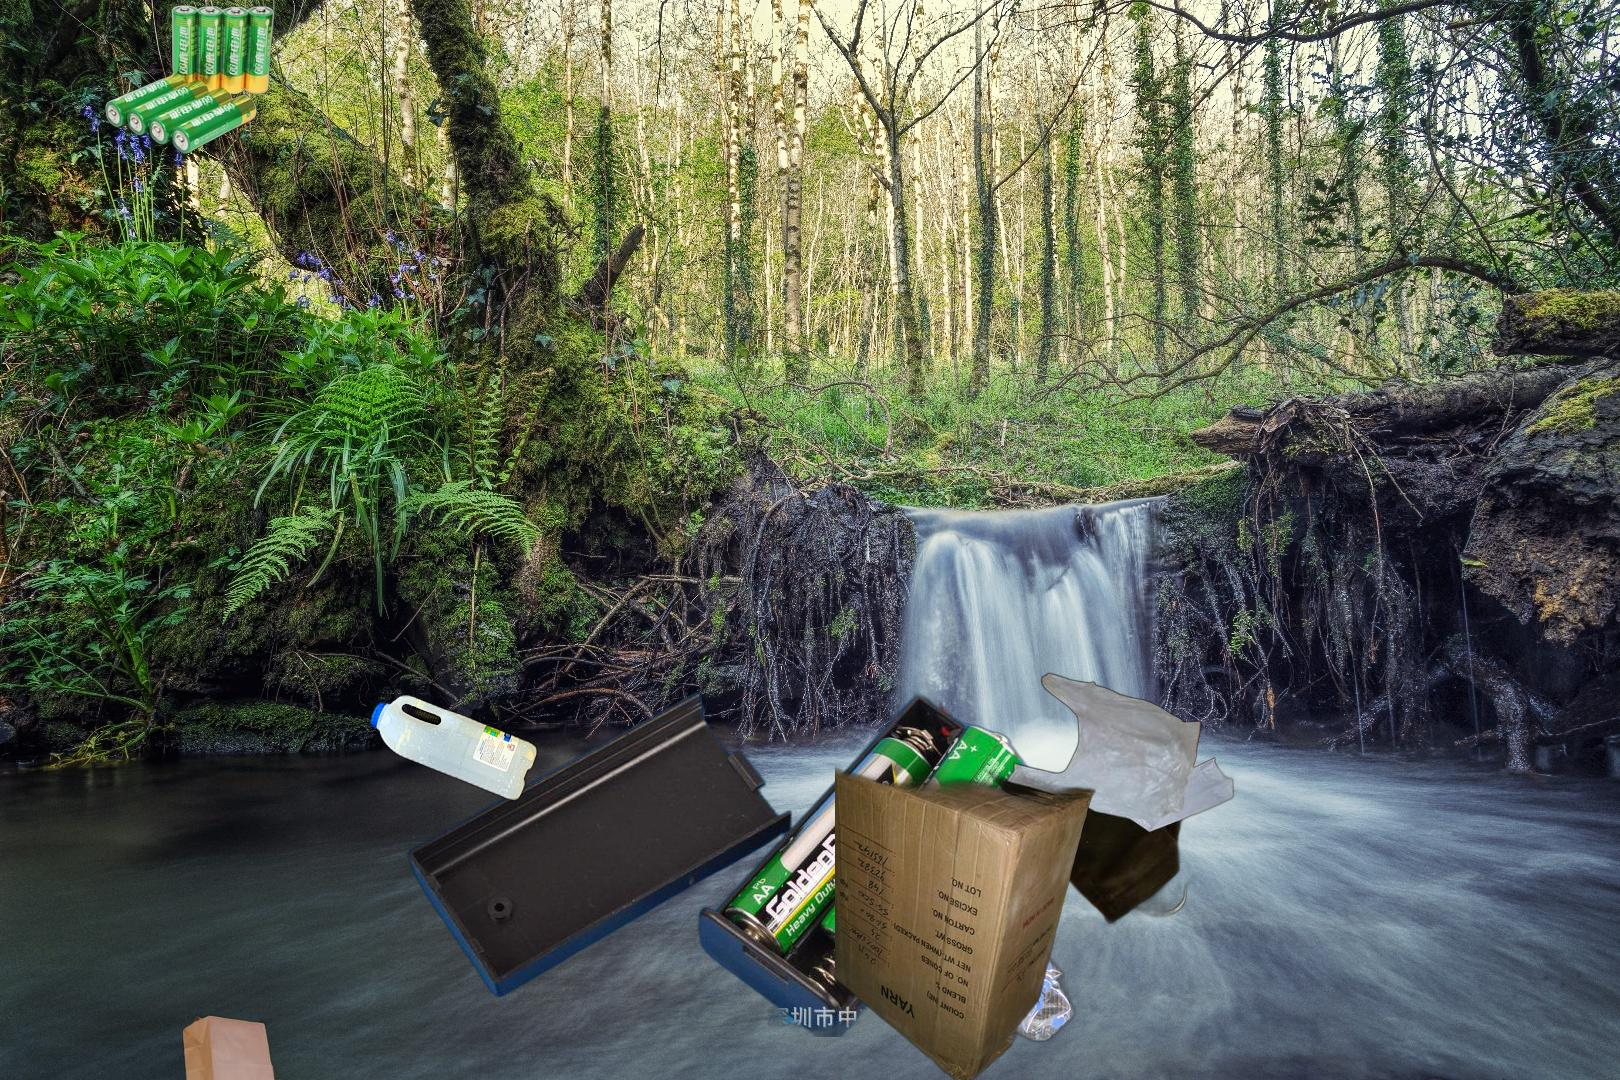battery: (403, 687, 1057, 1037), (102, 2, 277, 157)
paper-bag: (174, 1012, 284, 1080)
plastic-bag: (981, 671, 1237, 927), (2, 1070, 259, 1080)
plastic-bottles: (922, 876, 1078, 1047), (366, 689, 542, 806)
trashbox-cardboard: (835, 627, 1099, 1080)
